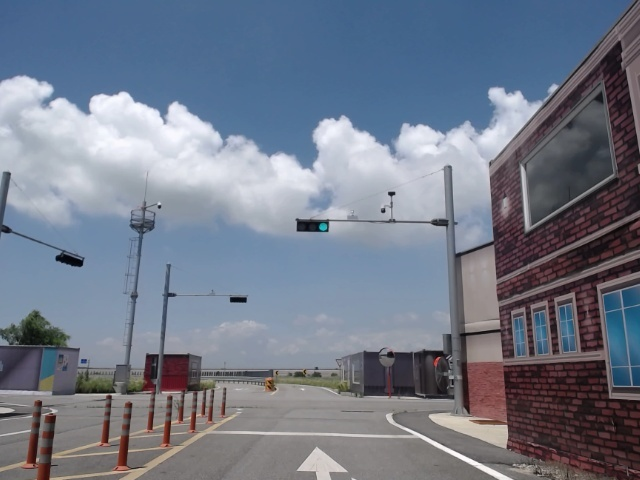green_3: (297, 220, 329, 232)
